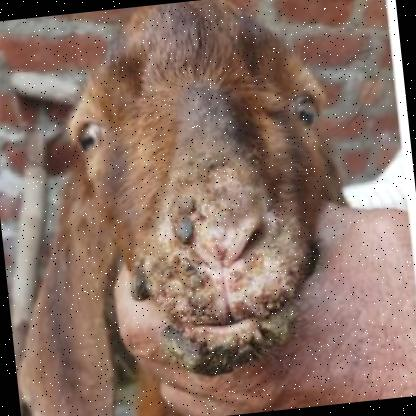ppr: (127, 208, 301, 359)
